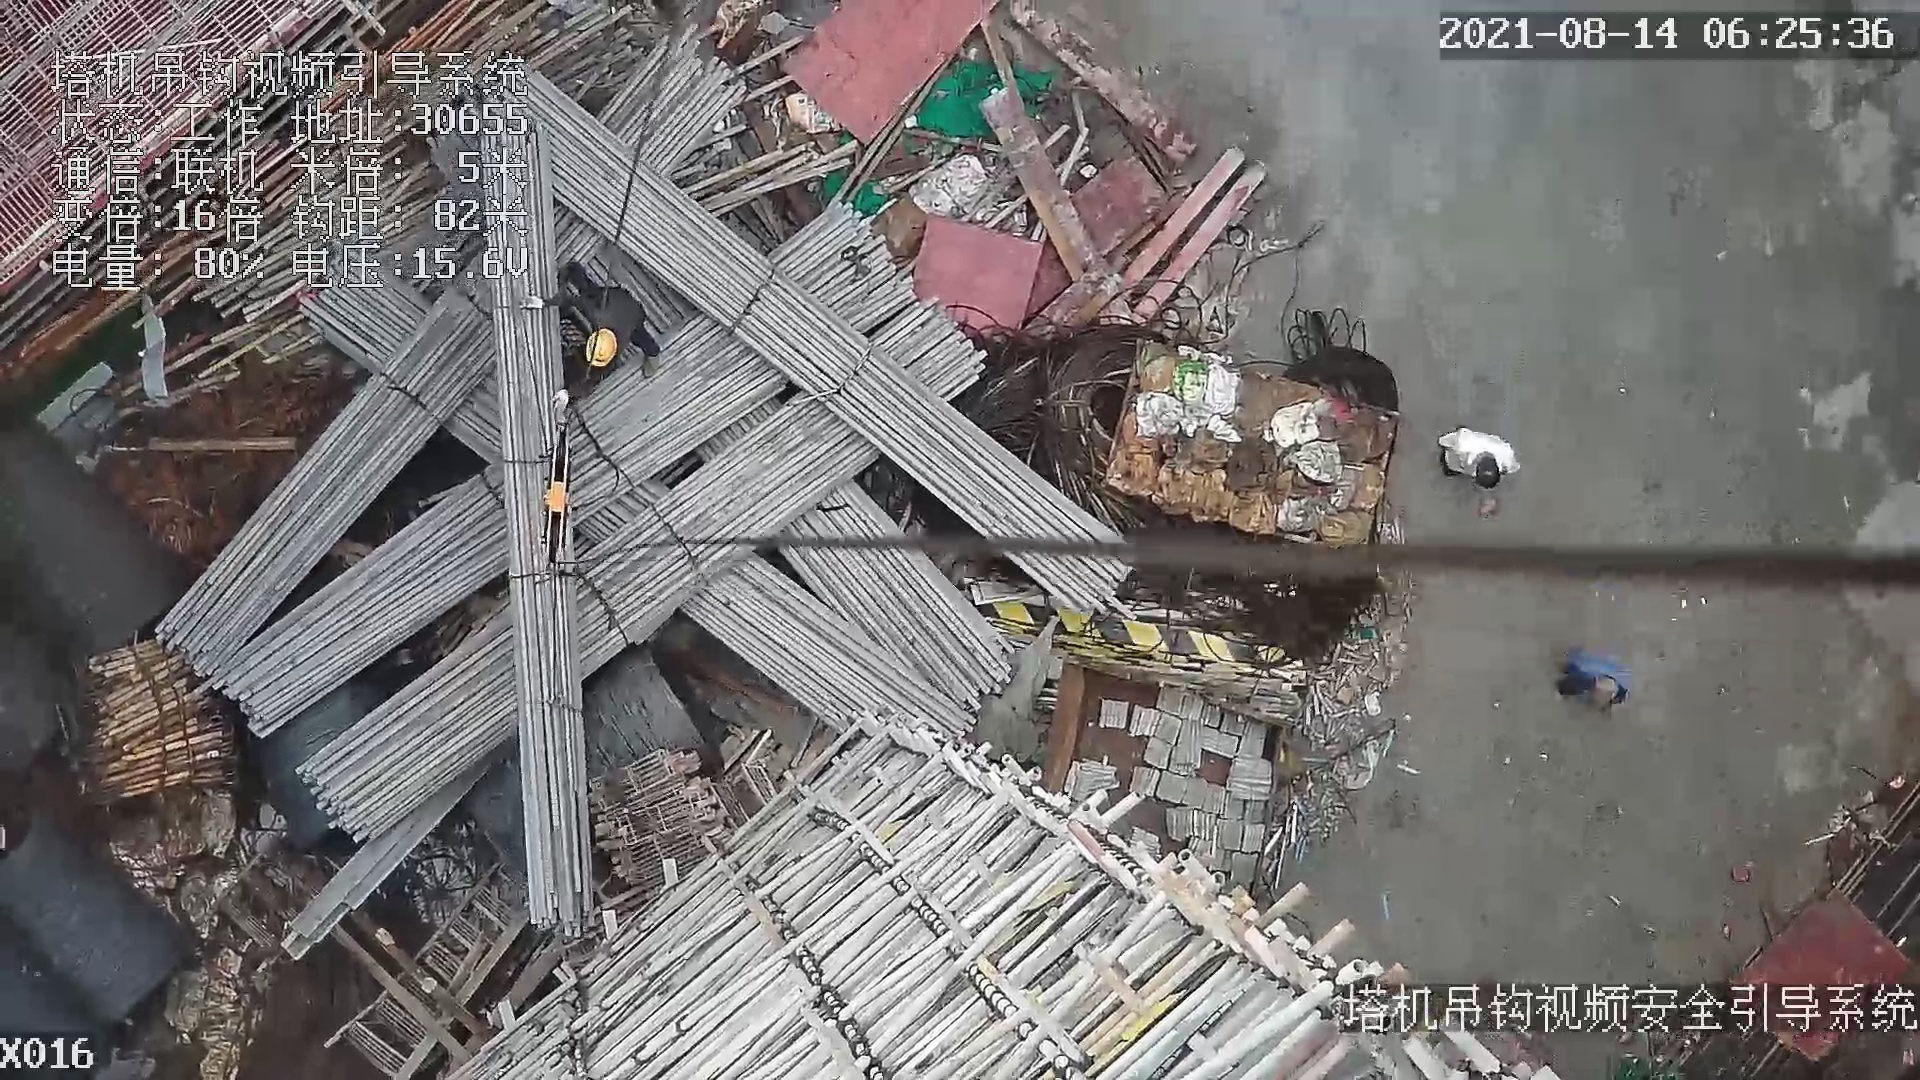helmet: (577, 315, 622, 369)
hook: (538, 419, 588, 583)
person: (535, 265, 662, 380), (1540, 635, 1636, 709), (1444, 423, 1526, 492)
